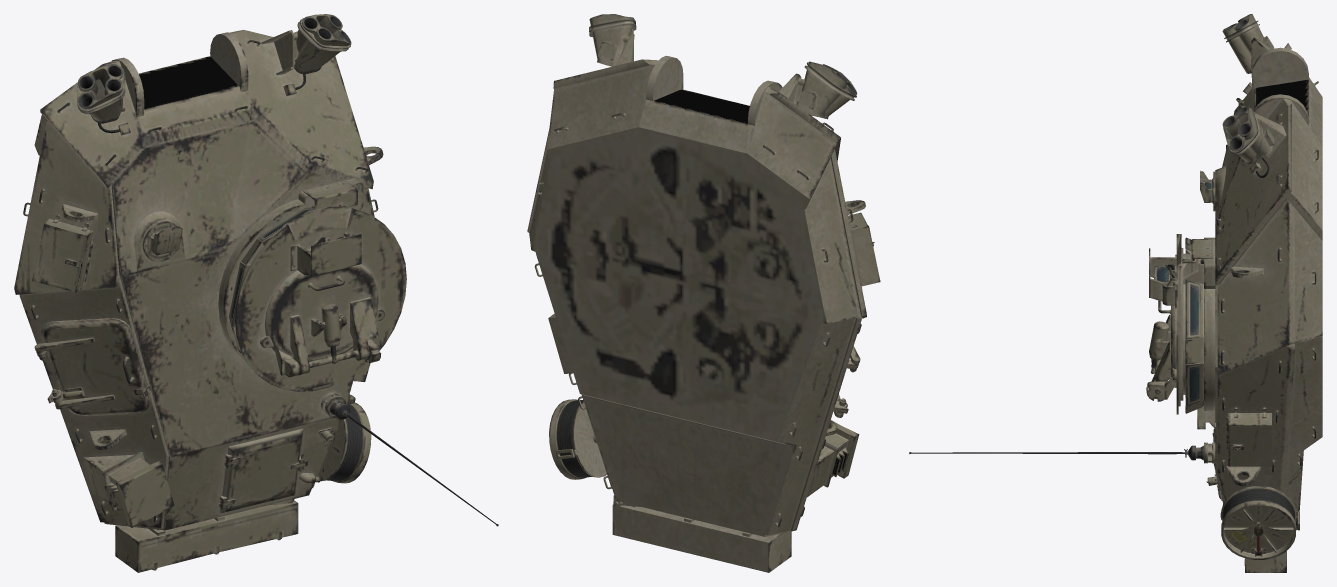
File: Turret_02.glb
3 views of the same model, side by side, from view 1: azimuth 30°, elevation 25°; view 2: azimuth 150°, elevation 25°; view 3: azimuth 270°, elevation 25° (orthographic). The views are drawn at different scales.
Parts seen in each view (by area): view 1: set_0_group_0; view 2: set_0_group_0; view 3: set_0_group_0.
Part boxes in pixels (bbox=[...]): set_0_group_0: bbox=[14, 14, 498, 572]; set_0_group_0: bbox=[527, 14, 880, 572]; set_0_group_0: bbox=[909, 14, 1322, 572].
Bounding box in the file's own units: 1.95 × 2.78 × 2.2.
1 material, 1 textured.
